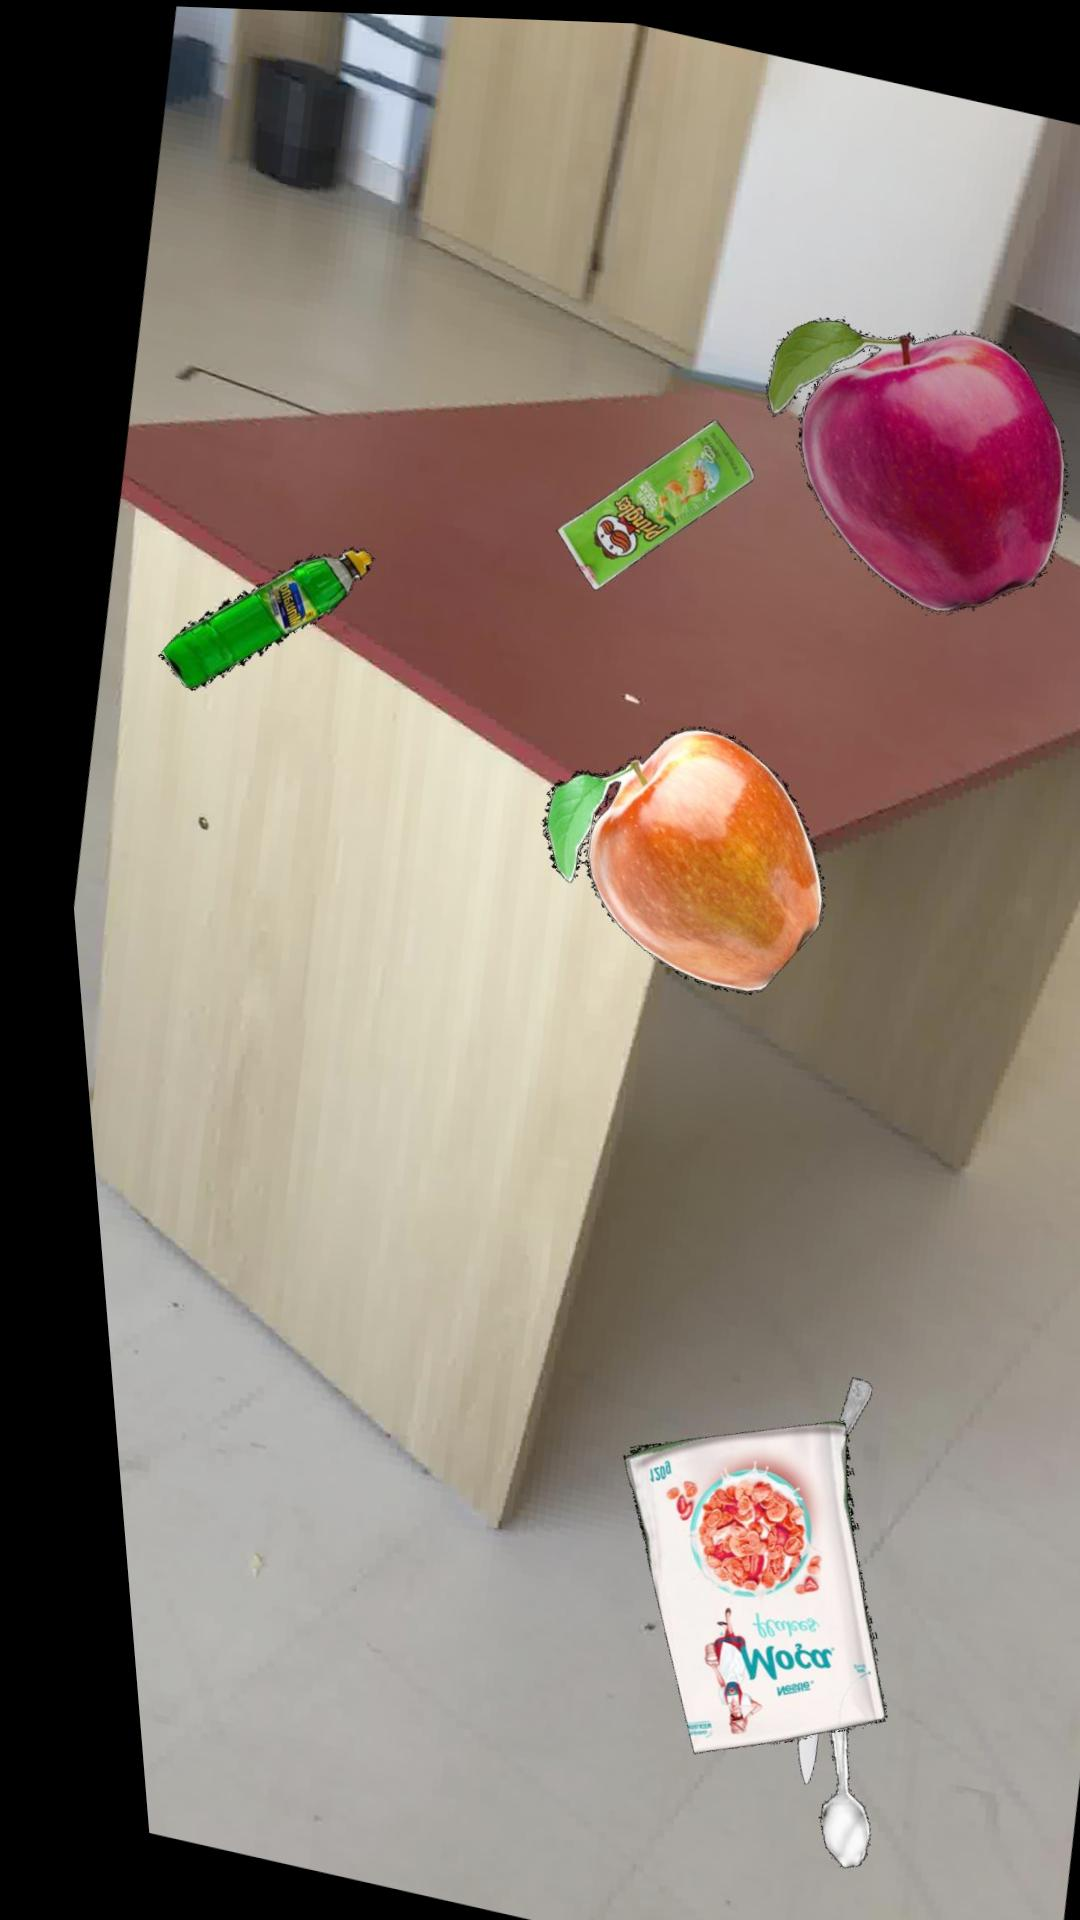apple: (761, 310, 1062, 604), (530, 721, 811, 985)
cleaner: (148, 543, 368, 688)
corn flakes: (600, 1415, 860, 1749)
knife: (770, 1727, 790, 1778)
pringles: (550, 414, 748, 585)
spoon: (789, 1722, 841, 1862), (816, 1370, 851, 1427)
